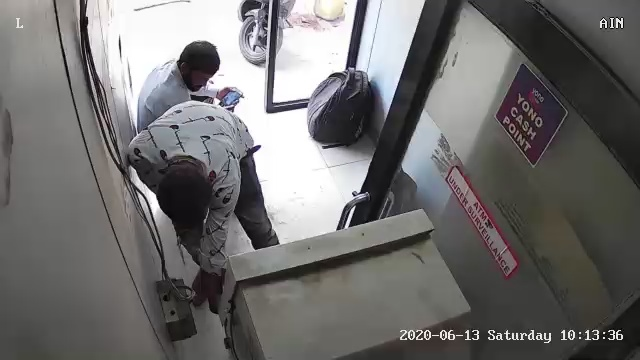open: (224, 9, 377, 157)
